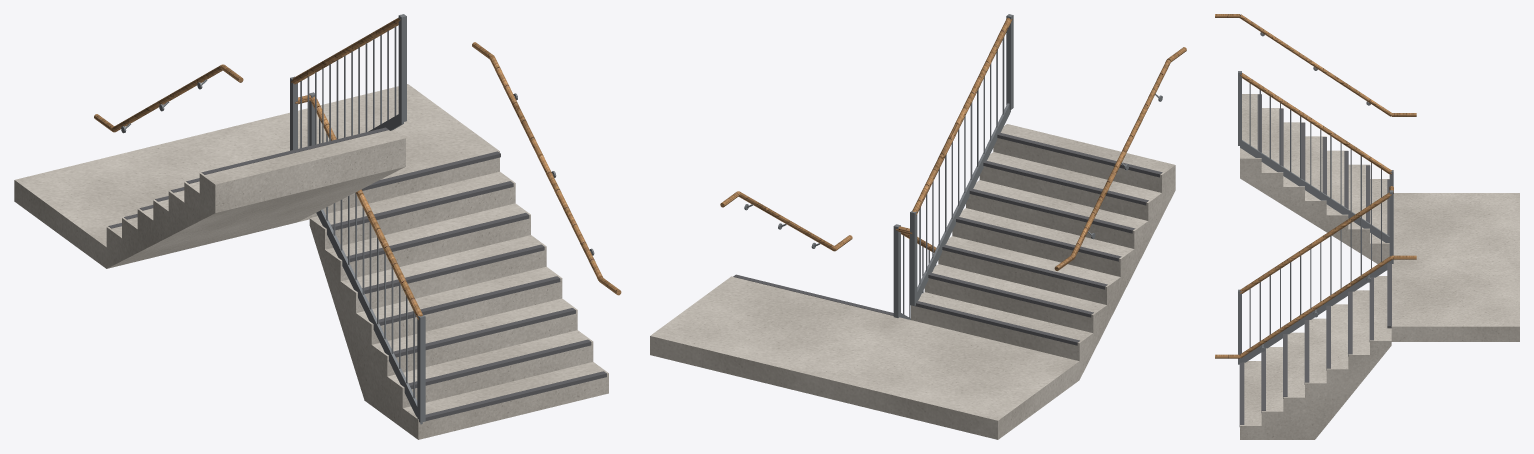
The model's file is stair.glb.
The picture shows the model from 3 angles, left to right: view 1: azimuth 30°, elevation 25°; view 2: azimuth 150°, elevation 25°; view 3: azimuth 270°, elevation 25°; orthographic projection. The views are drawn at different scales.
Parts seen in each view (by area): view 1: stair_terrazzo, stair_dark, stair_steel_d, stair_wood; view 2: stair_terrazzo, stair_dark, stair_steel_d, stair_wood; view 3: stair_terrazzo, stair_steel_d, stair_dark, stair_wood.
Part boxes in pixels (box(x1,y1,x2,y2)): stair_terrazzo: box(14, 84, 608, 439); stair_dark: box(108, 127, 606, 420); stair_steel_d: box(121, 14, 594, 424); stair_wood: box(94, 17, 621, 319); stair_terrazzo: box(650, 124, 1175, 439); stair_dark: box(733, 132, 1162, 345); stair_steel_d: box(744, 14, 1162, 319); stair_wood: box(720, 18, 1186, 270); stair_terrazzo: box(1240, 94, 1519, 439); stair_steel_d: box(1238, 32, 1393, 364); stair_dark: box(1239, 94, 1391, 426); stair_wood: box(1215, 14, 1416, 358).
Bounding box in the file's own units: 3.8 × 3.95 × 3.66.
4 materials, 2 textured.
